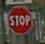stop: (5, 5, 33, 34)
